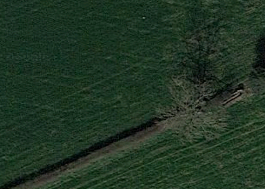tree: (160, 76, 229, 144)
